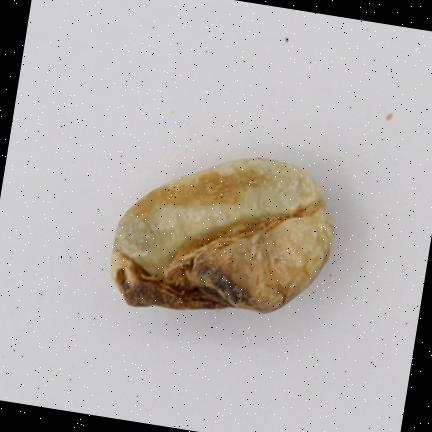broken: (111, 159, 334, 313)
